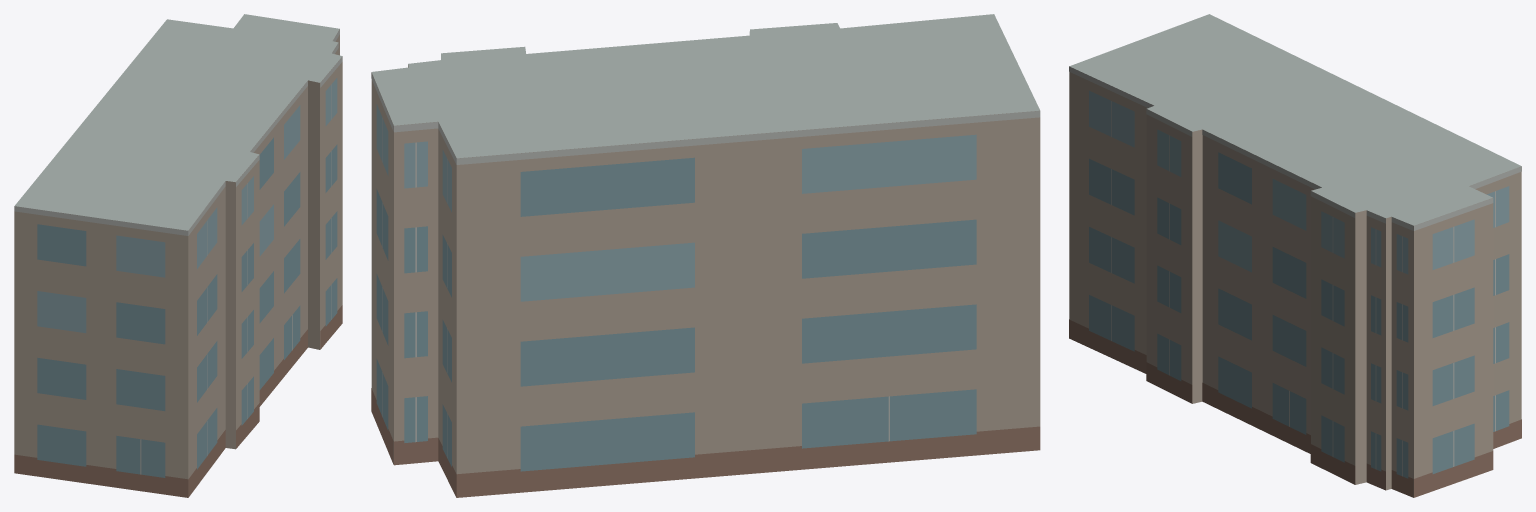
Rendered from survey-upis-32970041.glb.
The picture shows the model from 3 angles, left to right: view 1: azimuth 30°, elevation 25°; view 2: azimuth 150°, elevation 25°; view 3: azimuth 270°, elevation 25°; orthographic projection. The views are drawn at different scales.
Visible parts, largest first — view 1: survey-upis-32970041.tmp; view 2: survey-upis-32970041.tmp; view 3: survey-upis-32970041.tmp.
Part boxes in pixels (left/top/right/bottom): survey-upis-32970041.tmp: left=14, top=14, right=342, bottom=497; survey-upis-32970041.tmp: left=371, top=14, right=1040, bottom=497; survey-upis-32970041.tmp: left=1069, top=14, right=1521, bottom=497.
Bounding box in the file's own units: 20.53 × 12.3 × 18.54.
